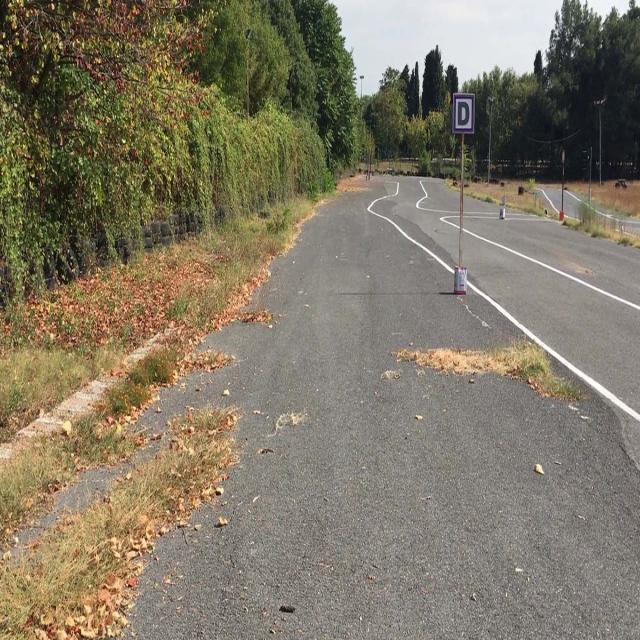durak: (454, 94, 474, 134)
